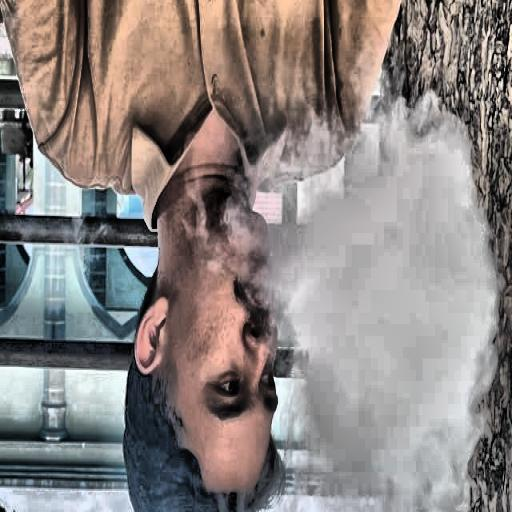Rokok: (137, 127, 497, 512)
